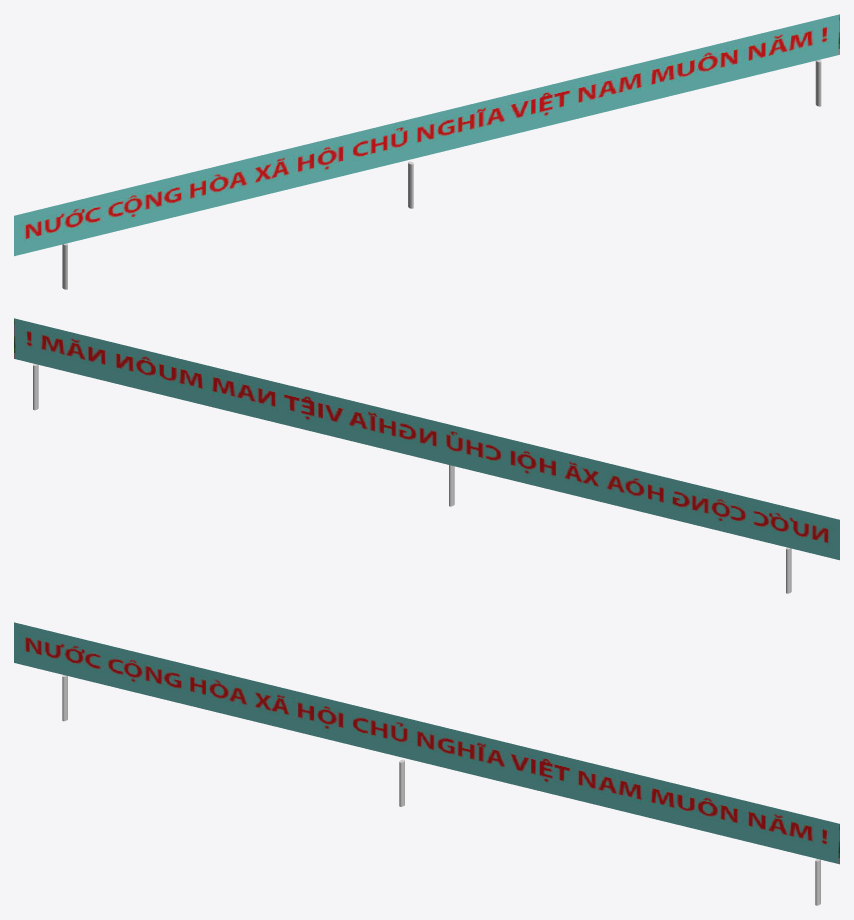
The model's file is banner.glb.
3 renders of one model, top to bottom at view 1: azimuth 30°, elevation 25°; view 2: azimuth 150°, elevation 25°; view 3: azimuth 330°, elevation 25°, orthographic.
Parts seen in each view (by area): view 1: Screenshot 2023-11-28 154038; view 2: Screenshot 2023-11-28 154038; view 3: Screenshot 2023-11-28 154038.
Boxes of the visible parts, x1,y1,x2,y2 form: Screenshot 2023-11-28 154038: [14, 14, 839, 256]; Screenshot 2023-11-28 154038: [14, 318, 839, 560]; Screenshot 2023-11-28 154038: [14, 622, 839, 864].
Size of the model in its own units: 21.33 by 2.11 by 0.3672.
Materials: 1 (1 with a texture image).
